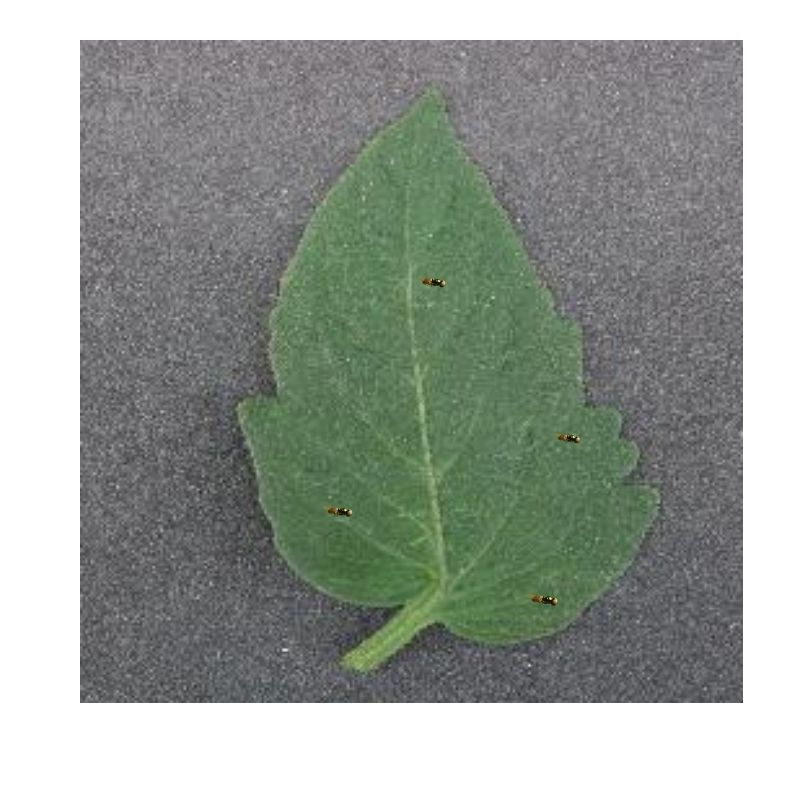liriomyza: (530, 592, 561, 607), (324, 504, 354, 518), (418, 274, 447, 288), (556, 431, 583, 446)
